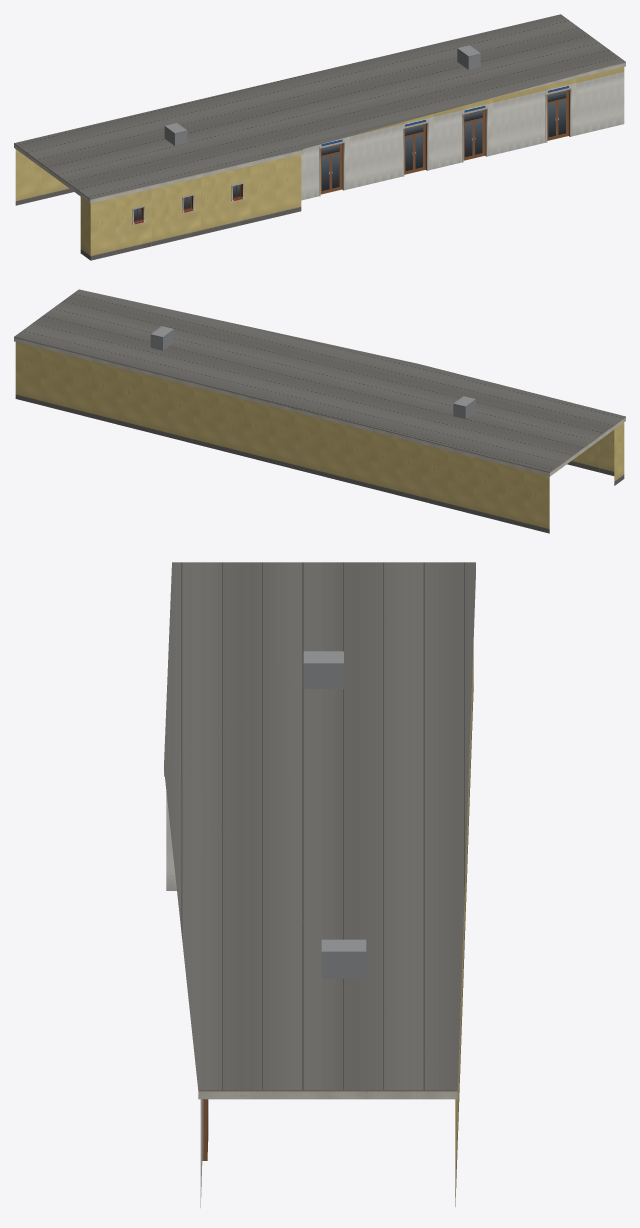
The model's file is SM_Molo_Edificio_A3.fbx.
3 views of the same model, one above another, from view 1: azimuth 30°, elevation 25°; view 2: azimuth 150°, elevation 25°; view 3: azimuth 270°, elevation 25° (orthographic). The views are drawn at different scales.
Visible parts, largest first — view 1: SM_Molo_Edificio_A3; view 2: SM_Molo_Edificio_A3; view 3: SM_Molo_Edificio_A3.
Part boxes in pixels (x1,y1,x2,y2): SM_Molo_Edificio_A3: [14, 14, 625, 260]; SM_Molo_Edificio_A3: [14, 289, 625, 533]; SM_Molo_Edificio_A3: [164, 562, 475, 1207].
Size of what is drawn, in the model's own units: 3092 by 773 by 415.
Materials: 1 (1 with a texture image).
